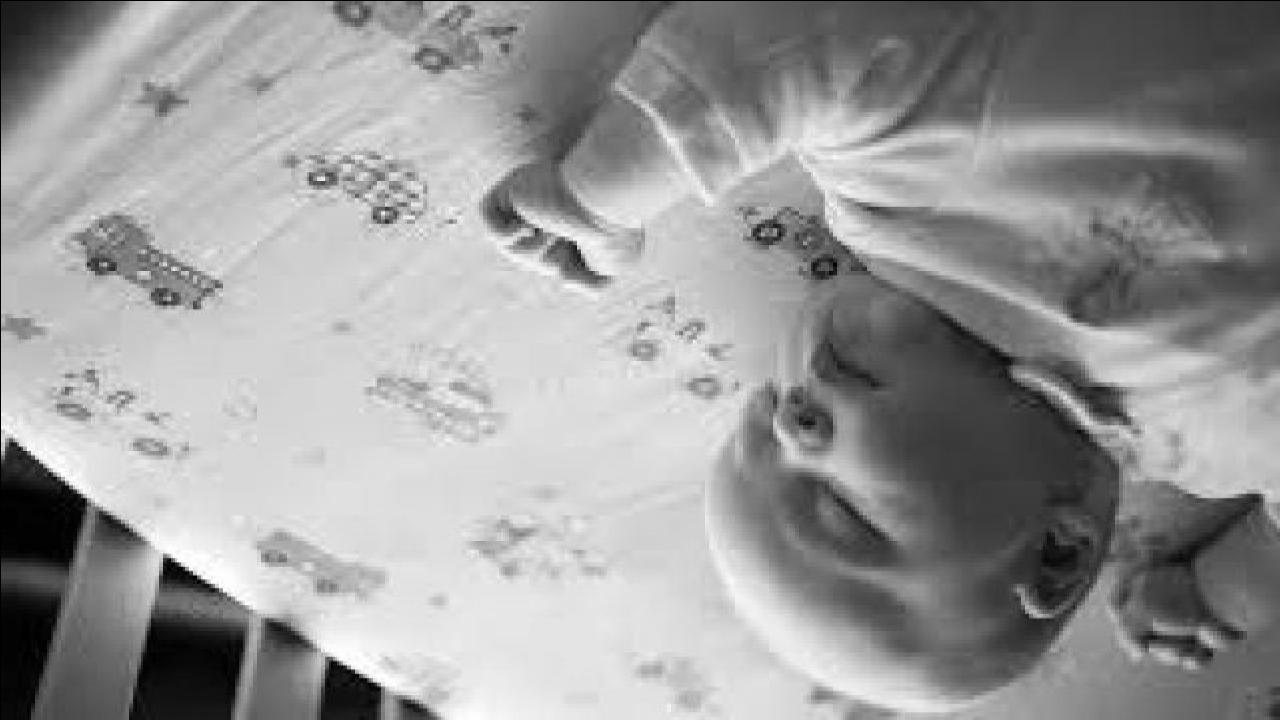hand: (477, 160, 643, 294), (1102, 560, 1248, 673)
